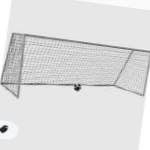goals: (2, 32, 150, 100)
